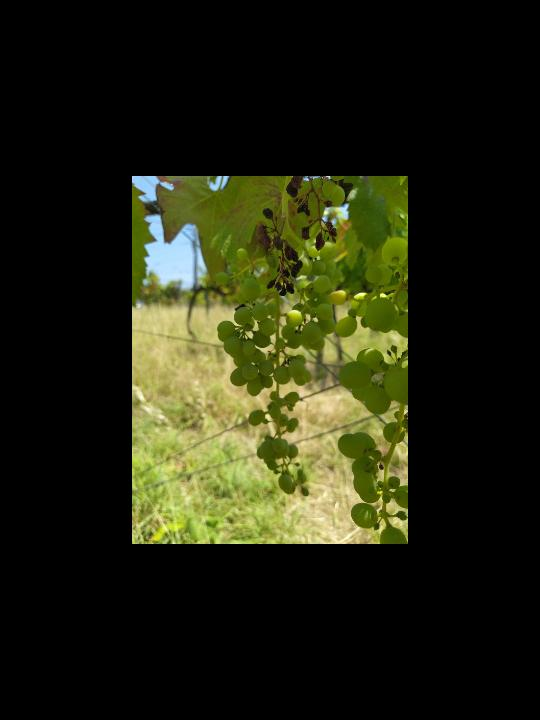grape: (209, 226, 346, 504), (253, 177, 346, 299)
